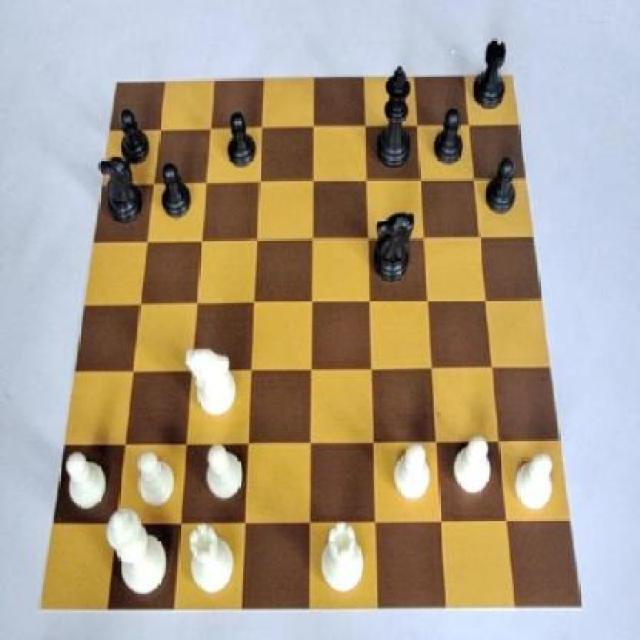black-bishop: (375, 63, 418, 177)
black-king: (371, 203, 420, 288), (92, 154, 144, 230)
black-knight: (476, 151, 522, 219), (157, 154, 198, 226), (220, 108, 260, 177), (114, 102, 150, 172), (428, 104, 466, 168)
black-queen: (472, 29, 510, 112)
white-bishop: (105, 505, 172, 607)
white-king: (185, 342, 240, 426)
white-knight: (450, 428, 494, 506), (512, 443, 556, 519), (200, 443, 246, 513), (386, 440, 432, 509), (66, 449, 111, 519), (132, 448, 178, 512)
white-queen: (315, 517, 371, 596), (188, 525, 236, 597)
